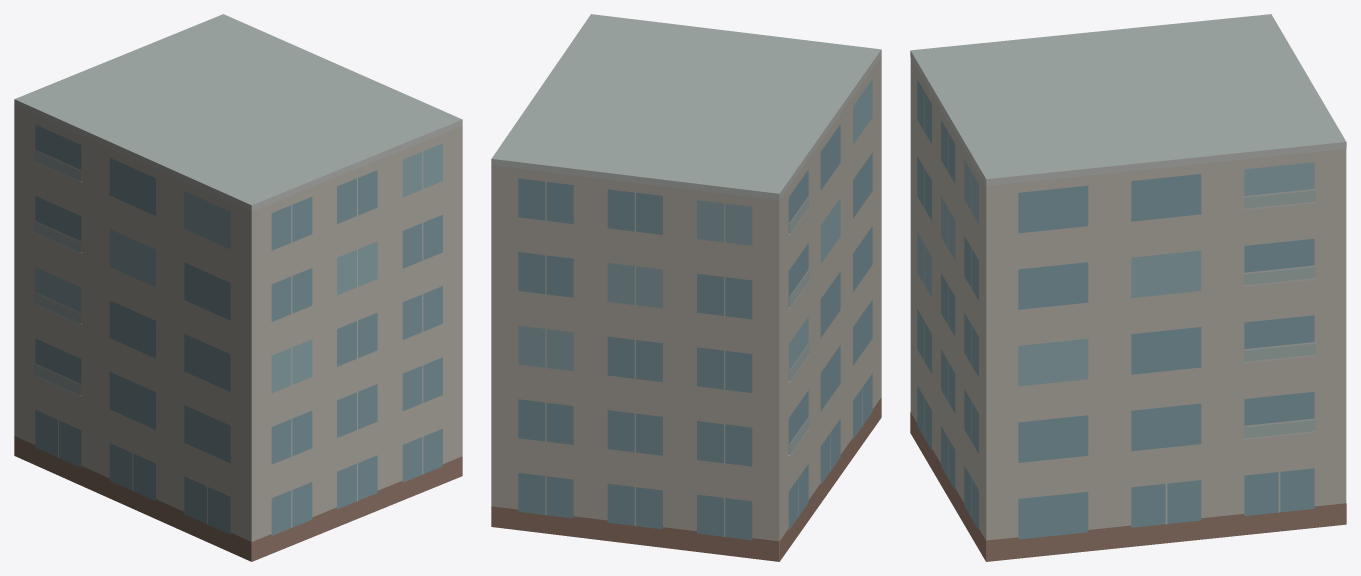
The model's file is survey-upis-32780351.glb.
3 renders of one model, left to right at view 1: azimuth 30°, elevation 25°; view 2: azimuth 150°, elevation 25°; view 3: azimuth 270°, elevation 25°, orthographic. The views are drawn at different scales.
Parts seen in each view (by area): view 1: survey-upis-32780351.tmp; view 2: survey-upis-32780351.tmp; view 3: survey-upis-32780351.tmp.
Part boxes in pixels (x1=…): survey-upis-32780351.tmp: x1=14, y1=14, x2=462, y2=561; survey-upis-32780351.tmp: x1=491, y1=14, x2=881, y2=561; survey-upis-32780351.tmp: x1=910, y1=14, x2=1346, y2=561.
Bounding box in the file's own units: 12.69 × 13.7 × 14.16.
